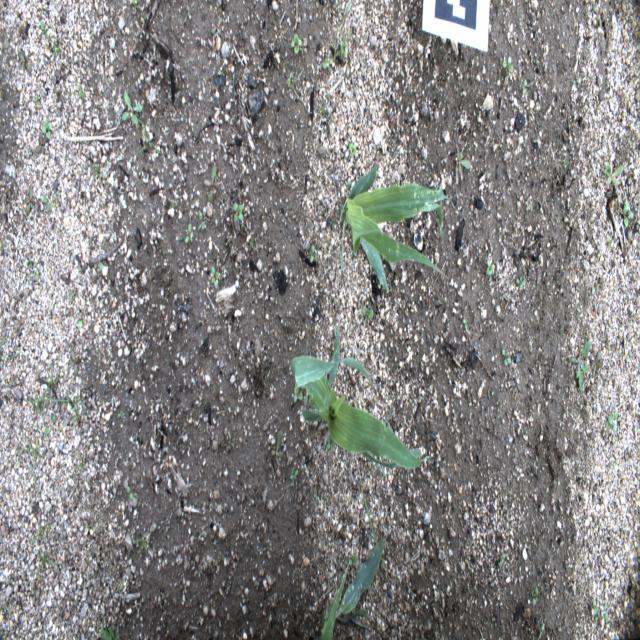crop: (290, 323, 431, 470), (341, 161, 457, 293), (321, 536, 384, 640)
weed: (568, 340, 590, 388), (282, 58, 304, 98), (34, 379, 58, 410), (123, 90, 143, 127), (203, 162, 220, 205), (602, 160, 624, 188), (615, 199, 634, 230), (454, 149, 472, 181), (270, 428, 284, 467), (99, 624, 122, 640), (290, 30, 303, 57), (18, 49, 31, 74), (34, 134, 51, 153), (590, 352, 602, 376), (362, 301, 374, 325), (605, 410, 619, 430), (43, 414, 56, 435), (70, 348, 79, 378), (210, 264, 220, 291), (30, 441, 41, 463), (501, 54, 514, 72), (233, 202, 244, 223), (198, 208, 207, 233), (42, 193, 53, 212), (530, 588, 540, 608), (293, 385, 303, 404), (326, 434, 336, 452), (502, 348, 512, 365), (485, 258, 495, 275), (185, 221, 192, 245), (26, 187, 32, 215), (289, 466, 299, 482), (310, 243, 318, 263), (138, 536, 147, 553), (537, 620, 545, 639), (348, 553, 358, 568), (54, 85, 64, 100), (348, 142, 358, 156), (521, 77, 528, 97), (44, 118, 50, 140), (126, 485, 133, 502), (117, 581, 125, 594), (76, 404, 81, 424), (77, 317, 83, 330), (116, 411, 124, 419)
